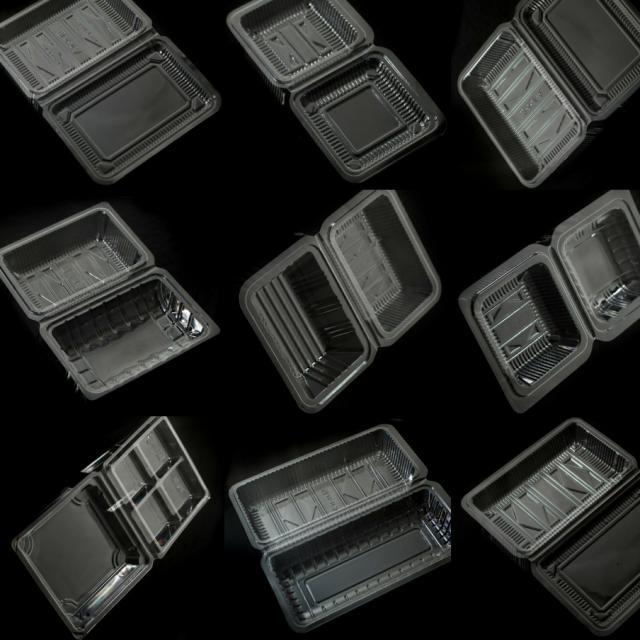plastik: (229, 425, 451, 632), (241, 192, 440, 411), (0, 202, 220, 399), (14, 417, 209, 636), (0, 0, 221, 183), (458, 192, 640, 412), (226, 0, 444, 182), (462, 418, 640, 635), (458, 0, 640, 187)
